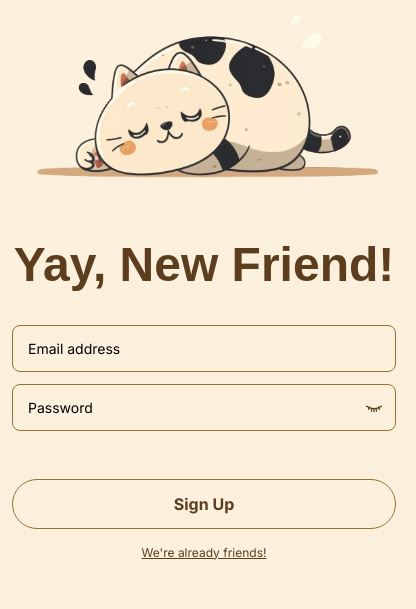
Test case: RegisterForm › shows root error for general API failures
Type "test@example.com" into the field with placeholder "Email address" at (204, 348), box [12,325,396,372]
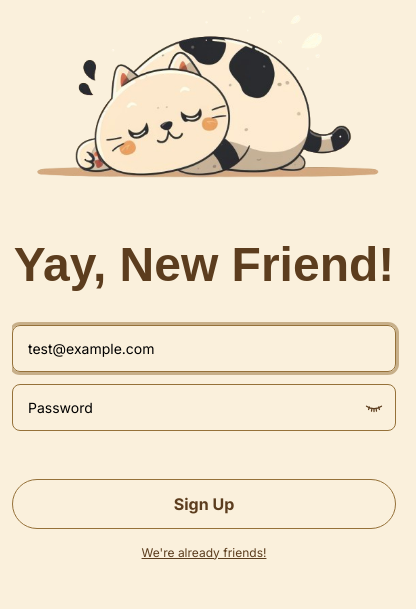
Type "password123" into the password field with placeholder "Password" at (204, 407), box [12,384,396,431]
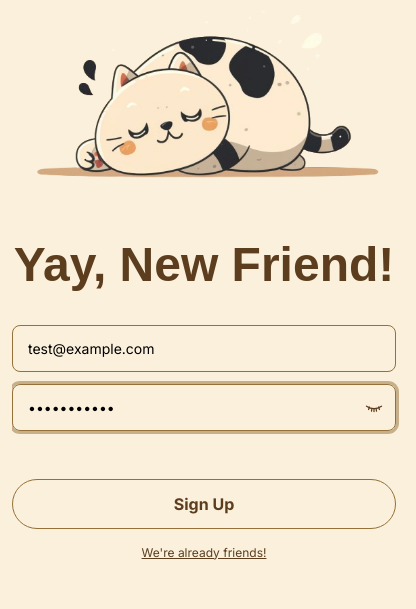
Click the button "Sign Up" at (204, 504), box [12,479,396,529]
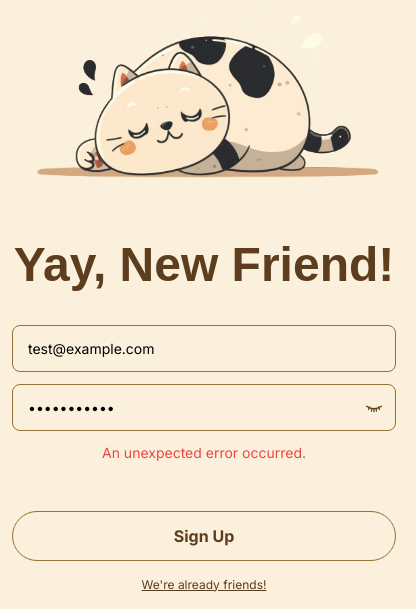
Expected: the text "An unexpected error occurred." is shown, [102,444,306,461]
